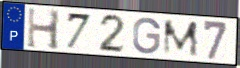2: (98, 13, 128, 54)
7: (64, 11, 94, 50), (202, 19, 229, 61)
G: (131, 16, 163, 56)
H: (26, 6, 62, 52)
M: (161, 19, 201, 58)
